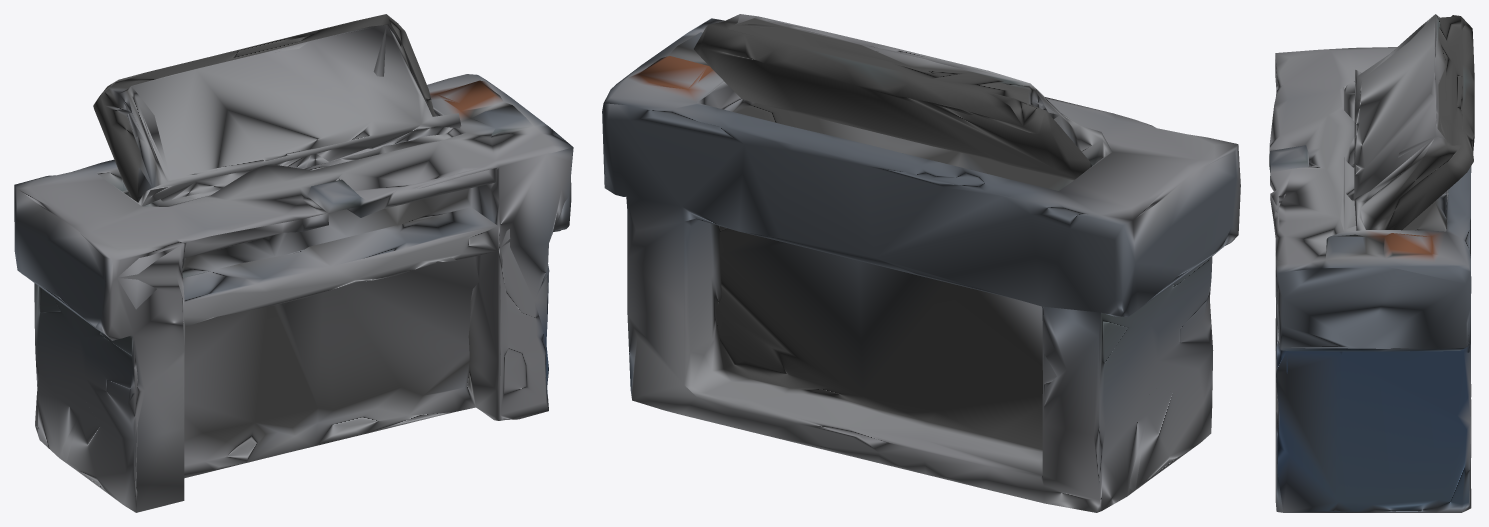
Rendered from gen3d-printer-lod0.glb.
The picture shows the model from 3 angles, left to right: view 1: azimuth 30°, elevation 25°; view 2: azimuth 150°, elevation 25°; view 3: azimuth 270°, elevation 25°; orthographic projection. The views are drawn at different scales.
Visible parts, largest first — view 1: part_0; view 2: part_0; view 3: part_0.
Part boxes in pixels (x1,y1,x2,y2): part_0: (14,14,573,512); part_0: (602,14,1240,512); part_0: (1269,14,1474,512).
Bounding box in the file's own units: 1.39 × 0.9998 × 0.5459.
